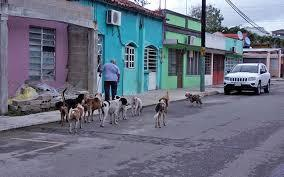normal_dogs: (149, 98, 182, 130), (56, 88, 85, 121), (101, 98, 128, 126), (86, 88, 103, 121), (184, 89, 208, 109), (70, 106, 88, 130), (114, 95, 128, 121), (158, 88, 174, 110), (129, 97, 145, 117)
